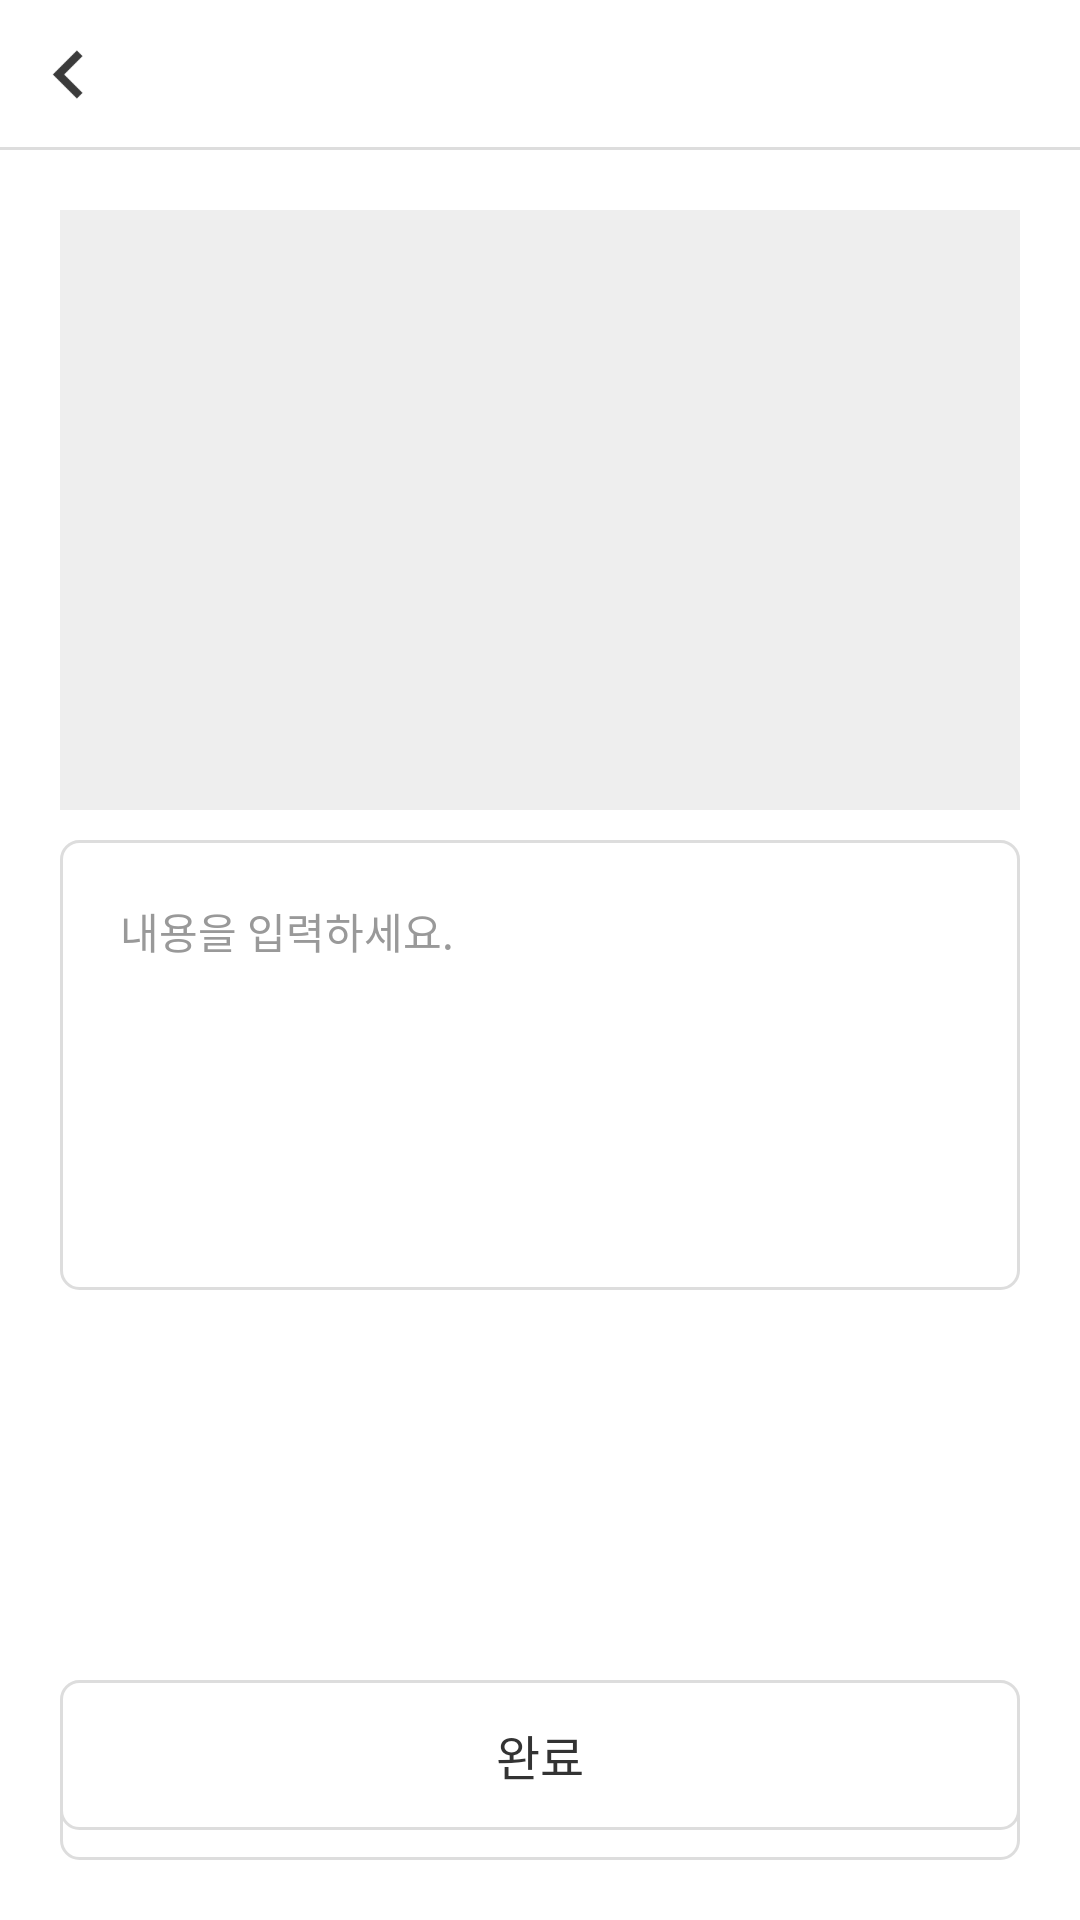

Where icons sit on this 1080 x 1920 app screen, as [x1,y1,x2,y2]:
arrow: [53,50,83,99]
